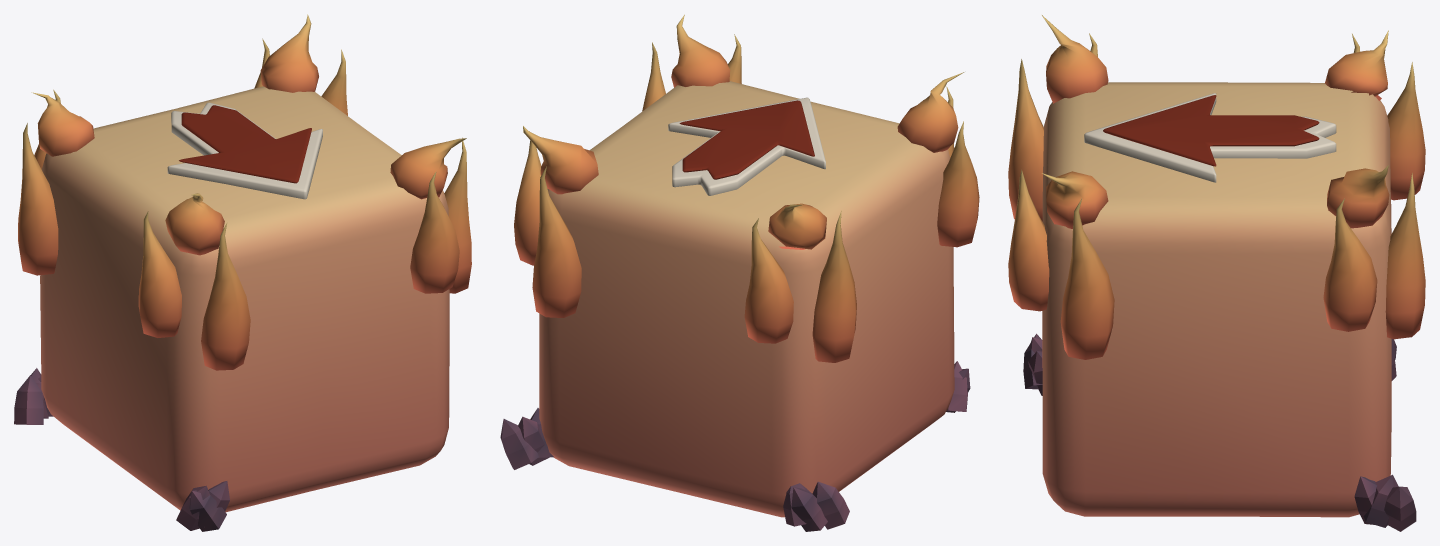
The model's file is ates_hi.glb.
The picture shows the model from 3 angles, left to right: view 1: azimuth 30°, elevation 25°; view 2: azimuth 150°, elevation 25°; view 3: azimuth 270°, elevation 25°; orthographic projection. The views are drawn at different scales.
Parts seen in each view (by area): view 1: ates_hi; view 2: ates_hi; view 3: ates_hi.
Part boxes in pixels (left/top/right/bottom): ates_hi: left=14, top=14, right=471, bottom=531; ates_hi: left=500, top=14, right=979, bottom=531; ates_hi: left=1008, top=15, right=1425, bottom=531.
Bounding box in the file's own units: 1.08 × 1.06 × 1.08.
